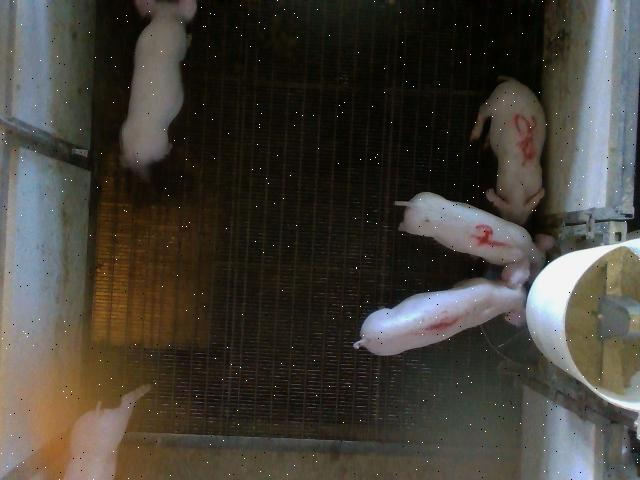pig-1: (354, 256, 531, 355)
pig-4: (396, 192, 545, 271)
pig-5: (470, 76, 546, 224)
